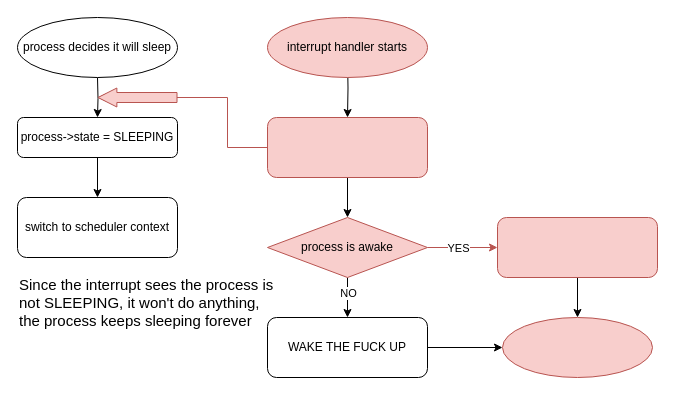
Some shapes in this 675 by 395 pixel diagram are drawn without their labels. Here are the shapes that lost their labels. From the top down, the centre of each, then its label:
At pixel 347 147: "check the process table".
At pixel 577 247: "oh nevermind".
At pixel 577 347: "handler ends".
